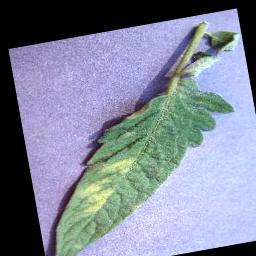Leaf_Mold: (67, 153, 143, 217)
